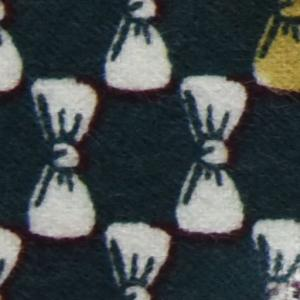Stain: (253, 1, 300, 99)
